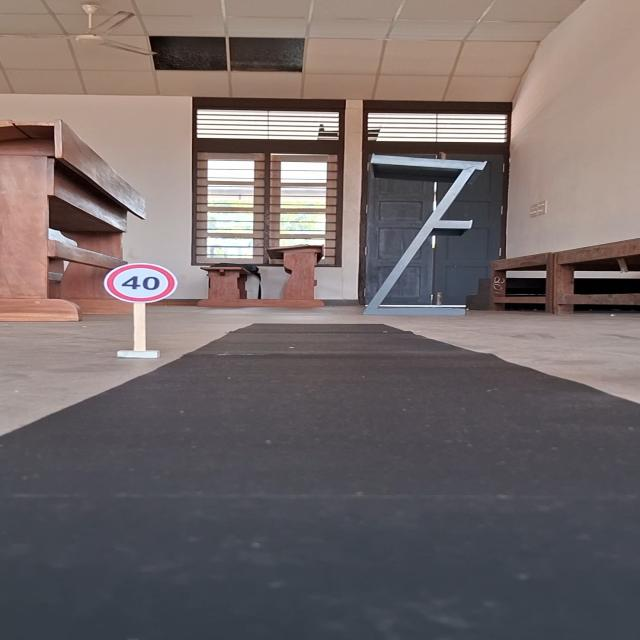Speed40: (103, 261, 180, 305)
